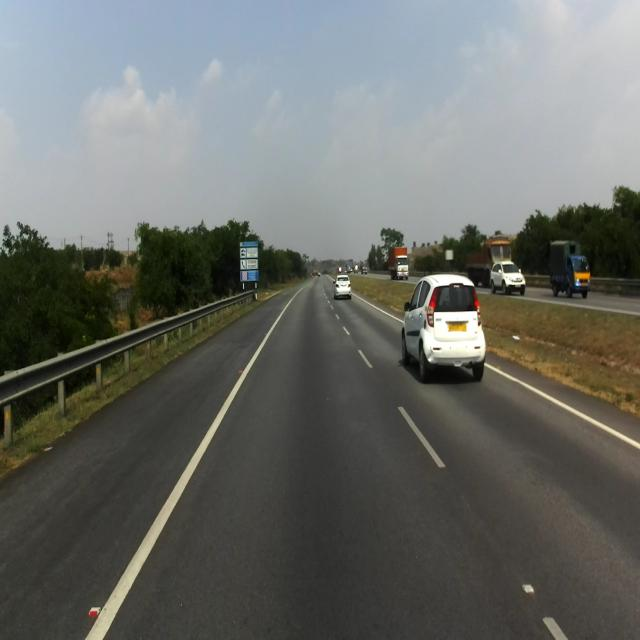car: (401, 274, 486, 383)
truck: (549, 238, 591, 298)
